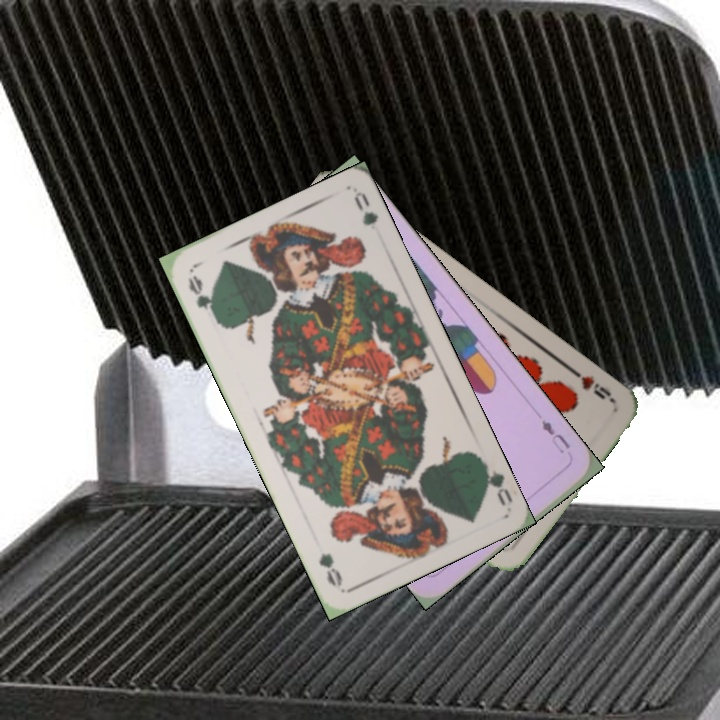EU: (537, 415, 573, 457)
GO: (476, 454, 515, 509), (183, 271, 220, 324)
H9: (565, 363, 617, 405)
